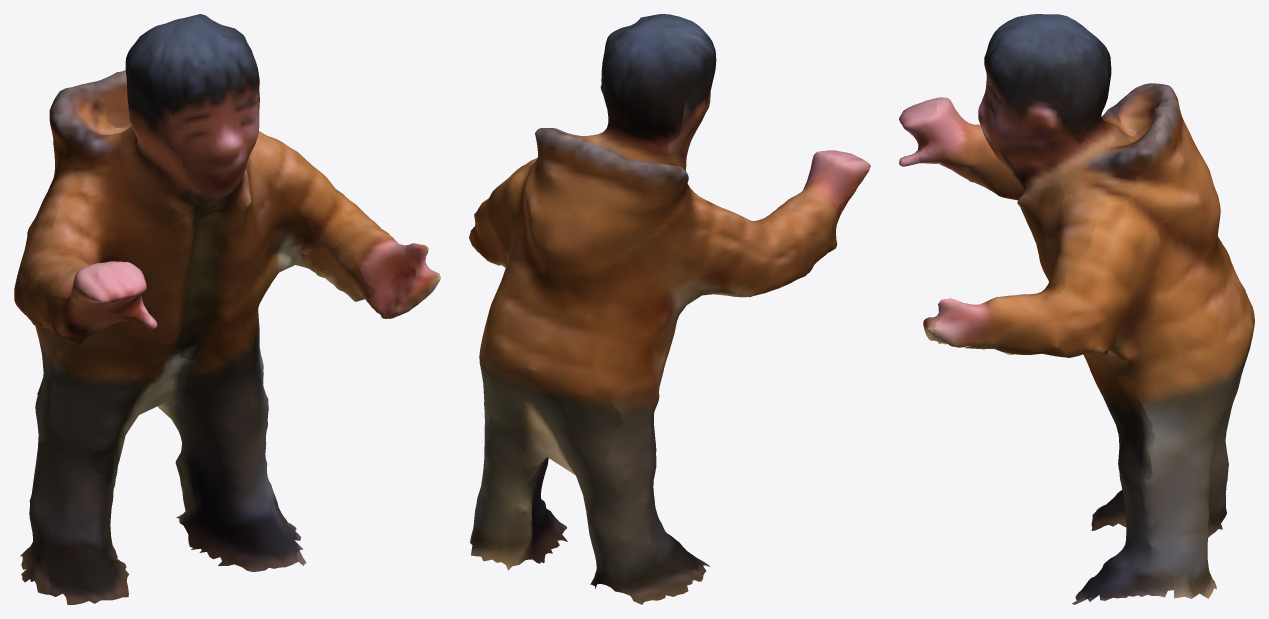
Rendered from dollA.glb.
The picture shows the model from 3 angles, left to right: view 1: azimuth 30°, elevation 25°; view 2: azimuth 150°, elevation 25°; view 3: azimuth 270°, elevation 25°; orthographic projection. The views are drawn at different scales.
Visible parts, largest first — view 1: Geom; view 2: Geom; view 3: Geom.
Part boxes in pixels (box(x1,y1,x2,y2)): Geom: box(14, 14, 440, 604); Geom: box(469, 14, 870, 604); Geom: box(899, 14, 1254, 604).
Bounding box in the file's own units: 0.0561 × 0.0853 × 0.0514.
1 material, 1 textured.
